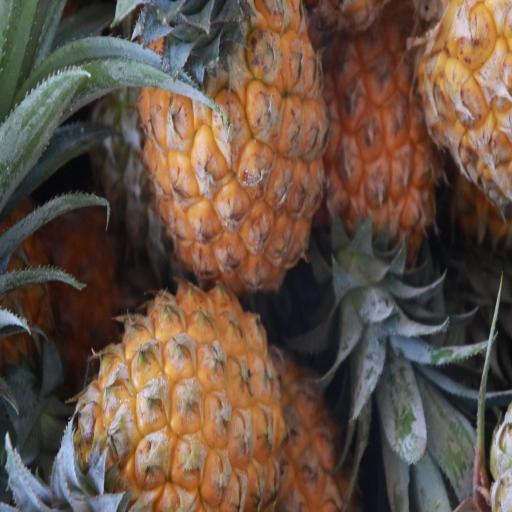Pineapple - v8 v1: (144, 0, 322, 292), (71, 297, 288, 512), (321, 1, 450, 249)
